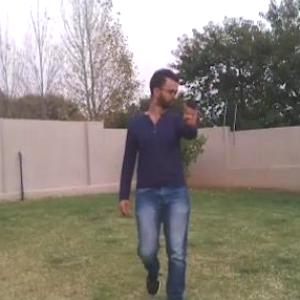takeoff-hand: (182, 91, 206, 132)
